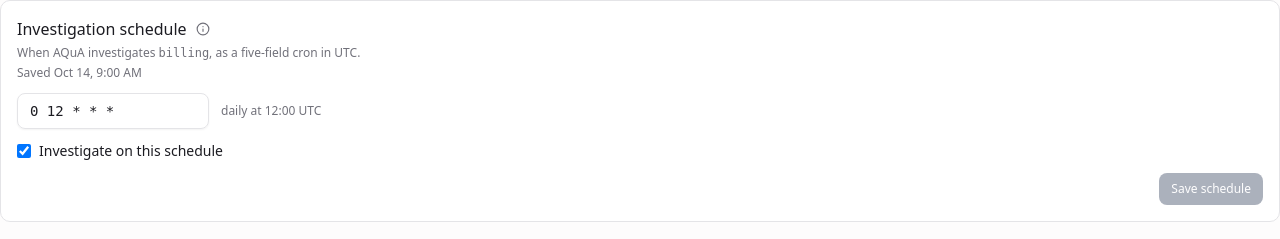
it: ScheduleCard › shows the agent's reason when it refuses the cron
This screenshot has width=1280, height=239.
Type "every day" into the field showing "0 12 * * *".
click(113, 111); type("every day")  # box [17,93,209,129]
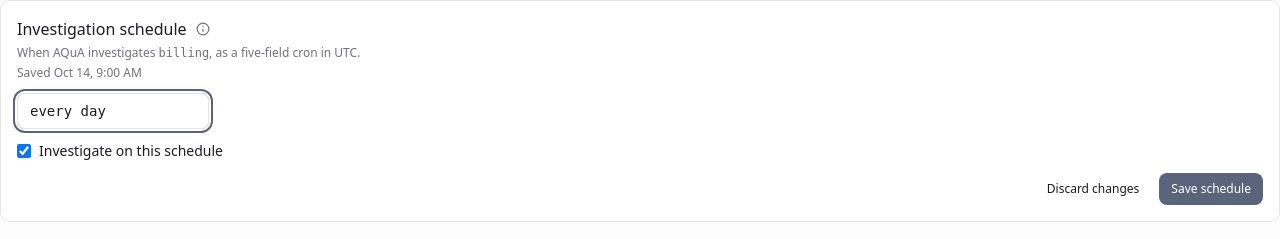
Click the button "Save schedule".
click(1211, 189)  # box [1159,173,1263,205]
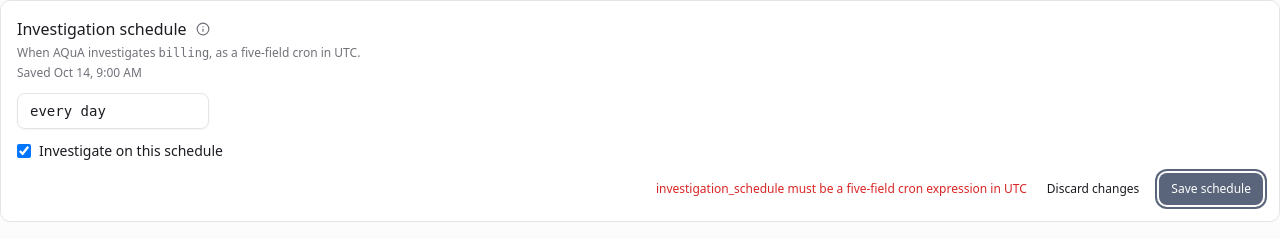
Expected: the text "must be a five-field cron" is shown, [656,180,1027,197]
